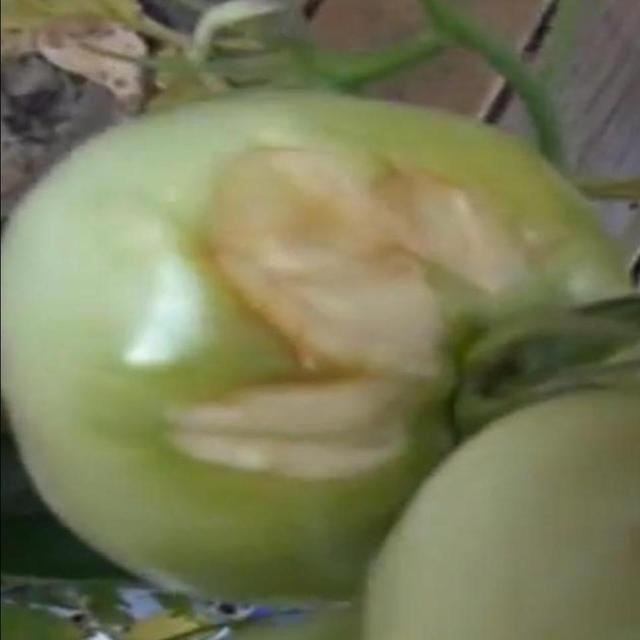Sunscald Fruit: (109, 90, 359, 322)
